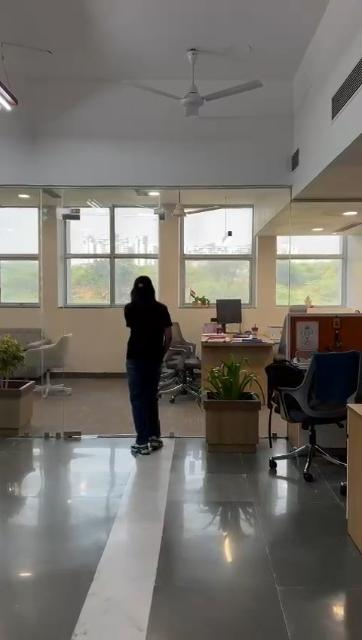floor: (0, 450, 358, 638)
moving-obj: (108, 243, 200, 463)
object: (271, 357, 361, 473), (200, 362, 266, 450), (0, 322, 34, 428), (24, 331, 74, 397), (171, 320, 201, 398), (210, 298, 248, 336)
wall: (42, 209, 68, 335), (70, 310, 120, 372), (254, 210, 278, 328), (156, 222, 188, 308), (348, 226, 362, 310)
